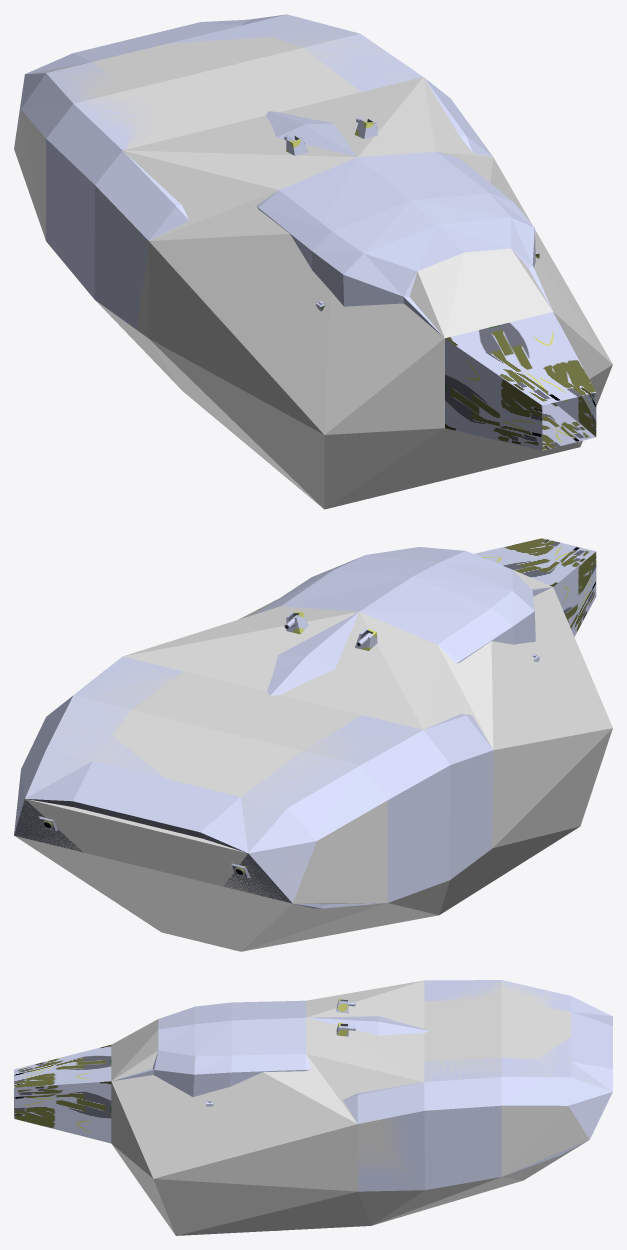
3 views of the same model, one above another, from view 1: azimuth 30°, elevation 25°; view 2: azimuth 150°, elevation 25°; view 3: azimuth 270°, elevation 25° (orthographic). The views are drawn at different scales.
Visible parts, largest first — view 1: Fuselage Extents, Fuselage, Exhaust, Debris Mesh.001, Debris Mesh.000, Debris Mesh.002, Debris Mesh.003; view 2: Fuselage Extents, Debris Mesh.001, Fuselage, Debris Mesh.000, Exhaust, Debris Mesh.003, Debris Mesh.002; view 3: Fuselage Extents, Debris Mesh.003, Fuselage, Debris Mesh.001, Exhaust, Debris Mesh.002, Debris Mesh.000.
Part boxes in pixels (left/top/right/bottom): Fuselage Extents: left=14, top=14, right=612, bottom=509; Fuselage: left=15, top=14, right=551, bottom=335; Exhaust: left=445, top=312, right=596, bottom=450; Debris Mesh.001: left=21, top=14, right=305, bottom=298; Debris Mesh.000: left=85, top=107, right=456, bottom=296; Debris Mesh.002: left=312, top=157, right=549, bottom=336; Debris Mesh.003: left=272, top=19, right=492, bottom=156; Fuselage Extents: left=14, top=570, right=612, bottom=951; Debris Mesh.001: left=14, top=735, right=449, bottom=908; Fuselage: left=14, top=547, right=551, bottom=908; Debris Mesh.000: left=257, top=607, right=513, bottom=879; Exhaust: left=474, top=538, right=596, bottom=636; Debris Mesh.003: left=22, top=656, right=183, bottom=766; Debris Mesh.002: left=360, top=577, right=552, bottom=620; Fuselage Extents: left=111, top=980, right=611, bottom=1235; Debris Mesh.003: left=343, top=1057, right=565, bottom=1191; Fuselage: left=112, top=980, right=612, bottom=1176; Debris Mesh.001: left=455, top=980, right=612, bottom=1153; Exhaust: left=14, top=1045, right=111, bottom=1143; Debris Mesh.002: left=122, top=1002, right=305, bottom=1096; Debris Mesh.000: left=246, top=980, right=473, bottom=1070.
Size of what is drawn, in the model's own units: 19.95 by 42.03 by 14.5.
5 materials, 5 textured.
